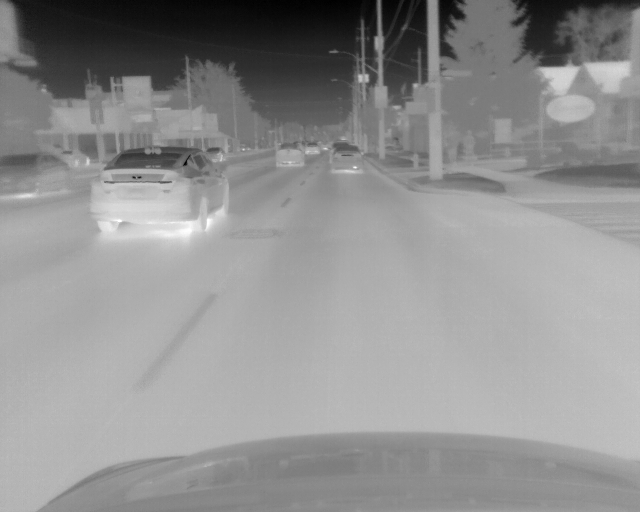car: (88, 146, 231, 236), (1, 153, 73, 203), (332, 145, 361, 175), (273, 143, 305, 169), (63, 149, 90, 167), (327, 141, 348, 161), (206, 147, 226, 163), (304, 142, 320, 157)
people: (443, 122, 459, 169), (461, 129, 476, 165)
